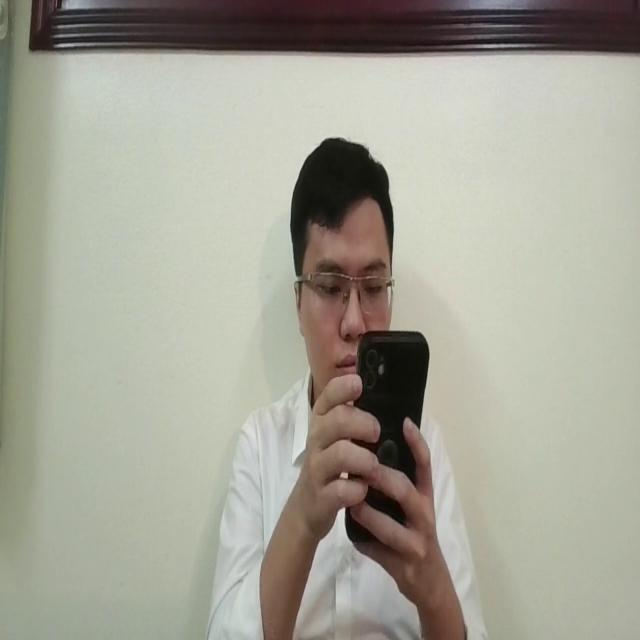phone: (341, 326, 432, 548)
student: (208, 137, 487, 640)
